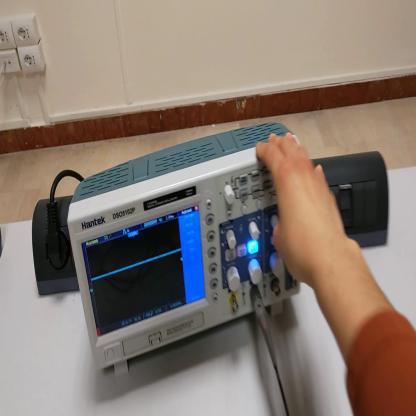hand: (254, 133, 346, 289)
oscilloscope: (68, 123, 299, 376)
socket: (34, 196, 79, 299)
